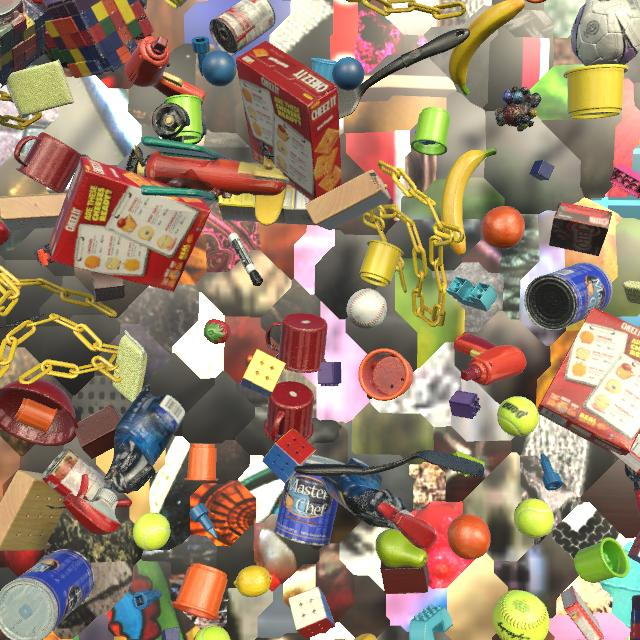ycb_002_master_chef_can: (0, 549, 95, 640), (274, 455, 344, 546), (524, 262, 613, 331)
ycb_003_cracker_box: (49, 157, 211, 292), (236, 41, 342, 200), (537, 308, 640, 456)
ycb_004_sugar_box: (218, 188, 317, 226)
ycb_005_tomato_soup_can: (41, 447, 113, 500), (209, 0, 276, 56), (139, 0, 147, 10)
ycb_006_mustard_bottle: (334, 639, 346, 640)
ycb_008_pudding_box: (549, 201, 613, 256)
ycb_009_gelatin_box: (560, 586, 604, 640), (609, 433, 640, 473)
ycb_011_banana: (448, 0, 525, 95), (441, 148, 497, 256), (354, 633, 377, 640)
ycb_012_strawberry: (203, 319, 231, 344), (0, 222, 11, 246)
ycb_014_lemon: (234, 565, 272, 597)
ycb_016_pear: (375, 528, 428, 568)
ycb_017_orange: (447, 514, 491, 560), (481, 206, 525, 249)
